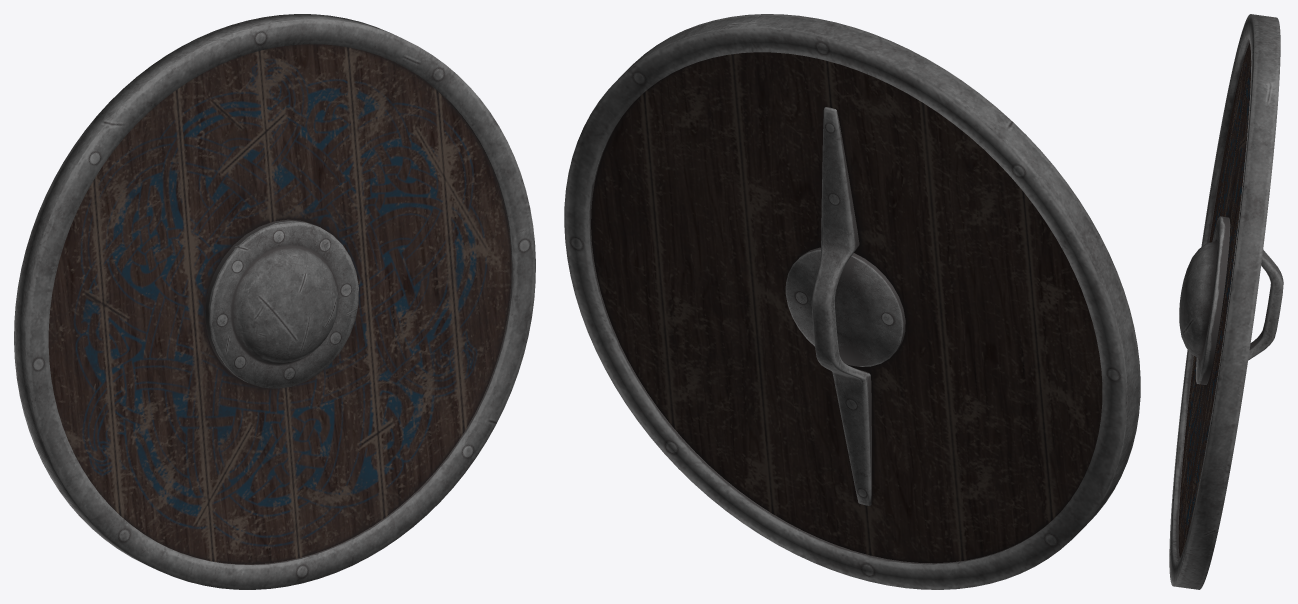
The model's file is viking_shield.glb.
3 views of the same model, side by side, from view 1: azimuth 30°, elevation 25°; view 2: azimuth 150°, elevation 25°; view 3: azimuth 270°, elevation 25° (orthographic). The views are drawn at different scales.
Parts seen in each view (by area): view 1: Shield; view 2: Shield; view 3: Shield.
Boxes of the visible parts, box(x1,y1,x2,y2) form: Shield: box(14, 14, 535, 589); Shield: box(564, 14, 1140, 589); Shield: box(1169, 14, 1283, 589).
Size of the model in its own units: 50.14 by 49.93 by 9.92.
Materials: 1 (1 with a texture image).
